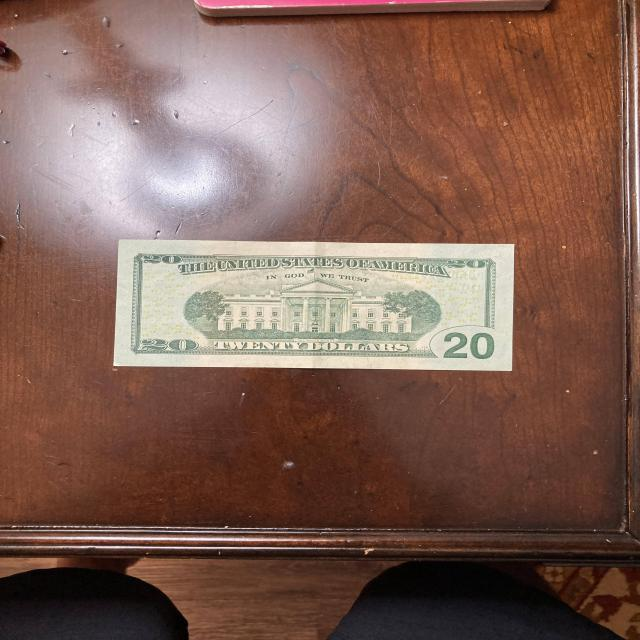twenty: (113, 239, 516, 372)
